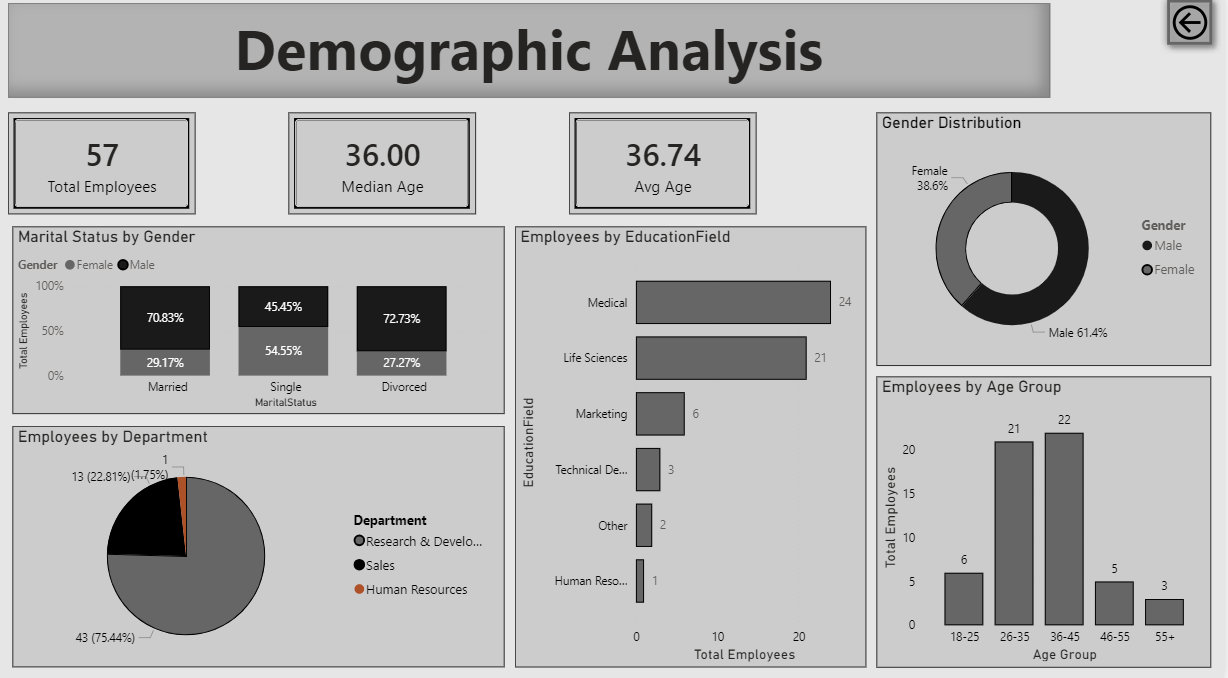

The dashboard page shown, as its layout file describes it:
{"tool":"powerbi","page":{"name":"Demographic Analysis","canvas":[1280,720],"ordinal":4},"visuals":[{"type":"clusteredColumnChart","title":"Employees by Age Group","fields":{"Category":["Dim_Employee.Age Group"],"Y":["HR_Analysis.Total Employees"]},"box":[917.5,401.7,348.5,303.2],"z":0},{"type":"donutChart","title":"Gender Distribution","fields":{"Category":["Dim_Employee.Gender"],"Y":["HR_Analysis.Total Employees"]},"box":[917.5,126.6,348.5,264.1],"z":1000},{"type":"clusteredBarChart","title":"Employees by EducationField","fields":{"Category":["Dim_Employee.EducationField"],"Y":["HR_Analysis.Total Employees"]},"box":[540.8,245.4,365.7,459.5],"z":2000},{"type":"pieChart","title":"Employees by Department","fields":{"Category":["Dim_Job.Department"],"Y":["HR_Analysis.Total Employees"]},"box":[17.2,453.3,512.7,251.6],"z":3000},{"type":"hundredPercentStackedColumnChart","title":"Marital Status by Gender","fields":{"Category":["Dim_Employee.MaritalStatus"],"Y":["HR_Analysis.Total Employees"],"Series":["Dim_Employee.Gender"]},"box":[17.2,245.4,512.7,195.4],"z":4000},{"type":"textbox","box":[12.5,12.5,1086.3,98.5],"z":5000},{"type":"actionButton","box":[1212,0,65,65],"z":6000},{"type":"cardVisual","fields":{"Data":["HR_Analysis.Total Employees"]},"box":[12.5,126.6,195.4,106.3],"z":7000},{"type":"cardVisual","fields":{"Data":["HR_Analysis.Median Age"]},"box":[304.8,126.6,195.4,106.3],"z":8000},{"type":"cardVisual","fields":{"Data":["HR_Analysis.Avg Age"]},"box":[597.1,126.6,195.4,106.3],"z":9000}]}

Visuals, with their boxes in screenshot pixels (x1, y1, x2, y2), scaled from the page's 1280x720 canvas onto the 1228x678 screenshot:
"Employees by Age Group" clusteredColumnChart: box=[880, 378, 1215, 664]
"Gender Distribution" donutChart: box=[880, 119, 1215, 368]
"Employees by EducationField" clusteredBarChart: box=[519, 231, 870, 664]
"Employees by Department" pieChart: box=[17, 427, 508, 664]
"Marital Status by Gender" hundredPercentStackedColumnChart: box=[17, 231, 508, 415]
textbox: box=[12, 12, 1054, 105]
actionButton: box=[1163, 0, 1225, 61]
cardVisual - HR_Analysis.Total Employees: box=[12, 119, 199, 219]
cardVisual - HR_Analysis.Median Age: box=[292, 119, 480, 219]
cardVisual - HR_Analysis.Avg Age: box=[573, 119, 760, 219]
